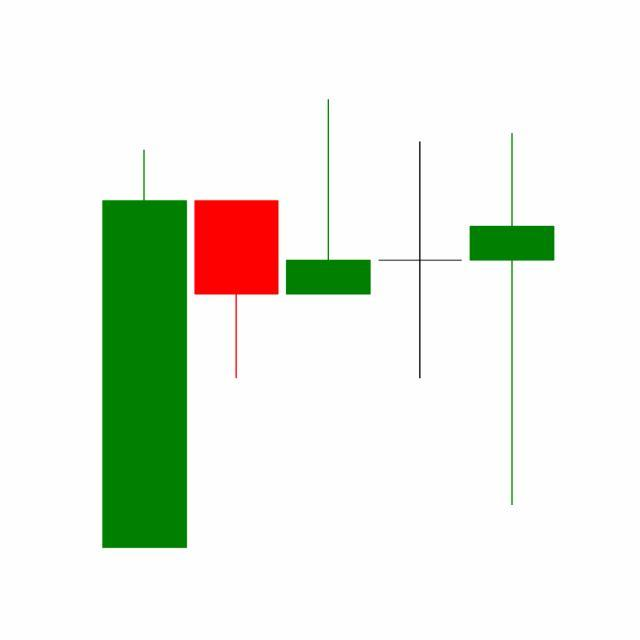Spinning Top: (466, 129, 559, 510)
